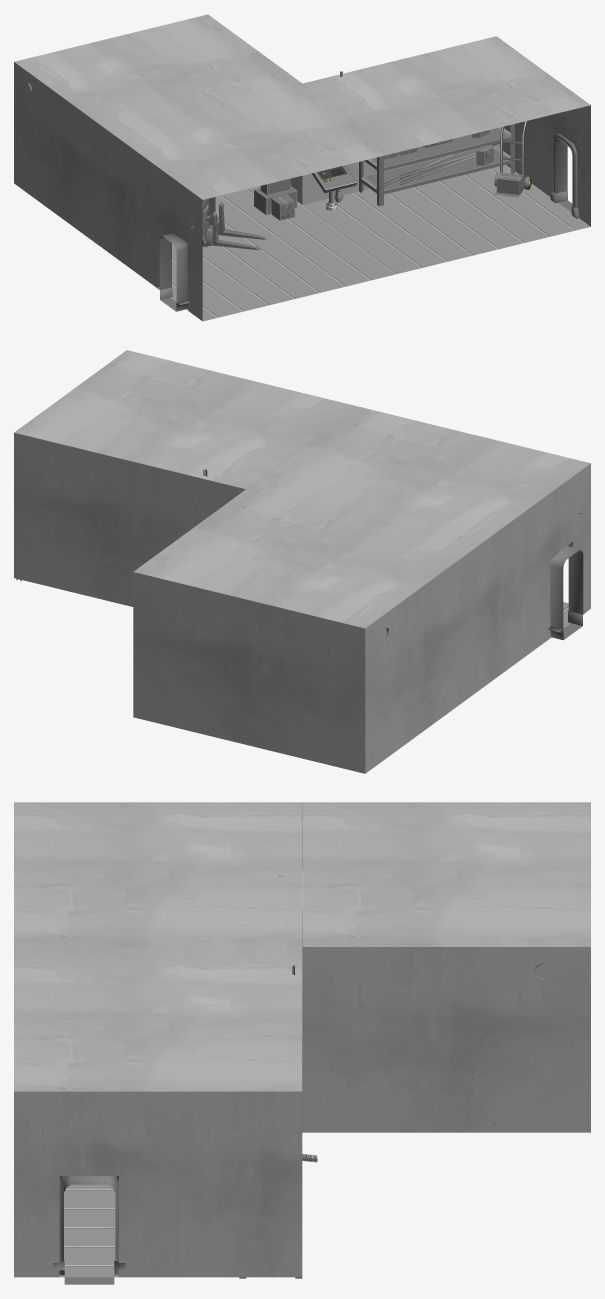
File: MHS_Storage_L1_R2_optimized.fbx
The picture shows the model from 3 angles, top to bottom: view 1: azimuth 30°, elevation 25°; view 2: azimuth 150°, elevation 25°; view 3: azimuth 270°, elevation 25°; orthographic projection. The views are drawn at different scales.
Parts seen in each view (by area): view 1: lightmap1, lightmap-1; view 2: lightmap1, lightmap-1; view 3: lightmap1, lightmap-1.
Part boxes in pixels (x1,y1,x2,y2): lightmap1: (14,14,590,321); lightmap-1: (159,139,572,311); lightmap1: (14,350,590,773); lightmap-1: (550,546,583,640); lightmap1: (14,802,590,1278); lightmap-1: (64,1176,115,1284).
Bounding box in the file's own units: 20.61 × 6.26 × 16.51.
4 materials, 4 textured.
